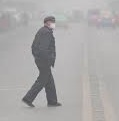person: (21, 14, 64, 109)
